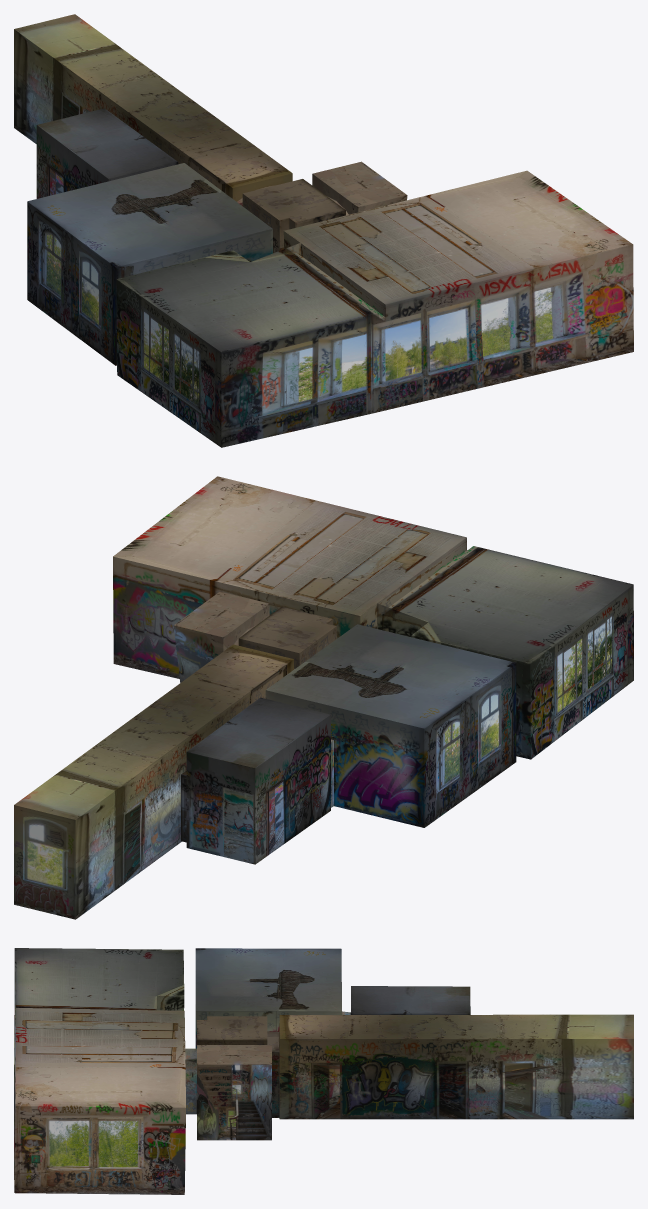
File: tourmodel.obj
3 views of the same model, one above another, from view 1: azimuth 30°, elevation 25°; view 2: azimuth 150°, elevation 25°; view 3: azimuth 270°, elevation 25° (orthographic). The views are drawn at different scales.
Visible parts, largest first — view 1: Pano_01_Plane; view 2: Pano_01_Plane; view 3: Pano_01_Plane.
Part boxes in pixels (x1,y1,x2,y2): Pano_01_Plane: (14,14,633,447); Pano_01_Plane: (14,476,633,919); Pano_01_Plane: (14,948,633,1194).
Bounding box in the file's own units: 13.61 × 3.45 × 21.72.
Materials: 1 (1 with a texture image).
